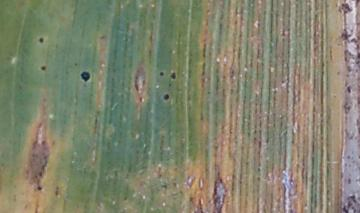tarspot: (79, 70, 91, 83), (346, 193, 359, 204), (342, 199, 352, 213), (160, 91, 171, 103), (168, 70, 179, 81), (37, 35, 45, 45), (345, 83, 352, 94), (35, 184, 43, 193), (39, 64, 47, 72), (158, 69, 165, 77), (353, 1, 360, 9), (73, 61, 79, 69)
